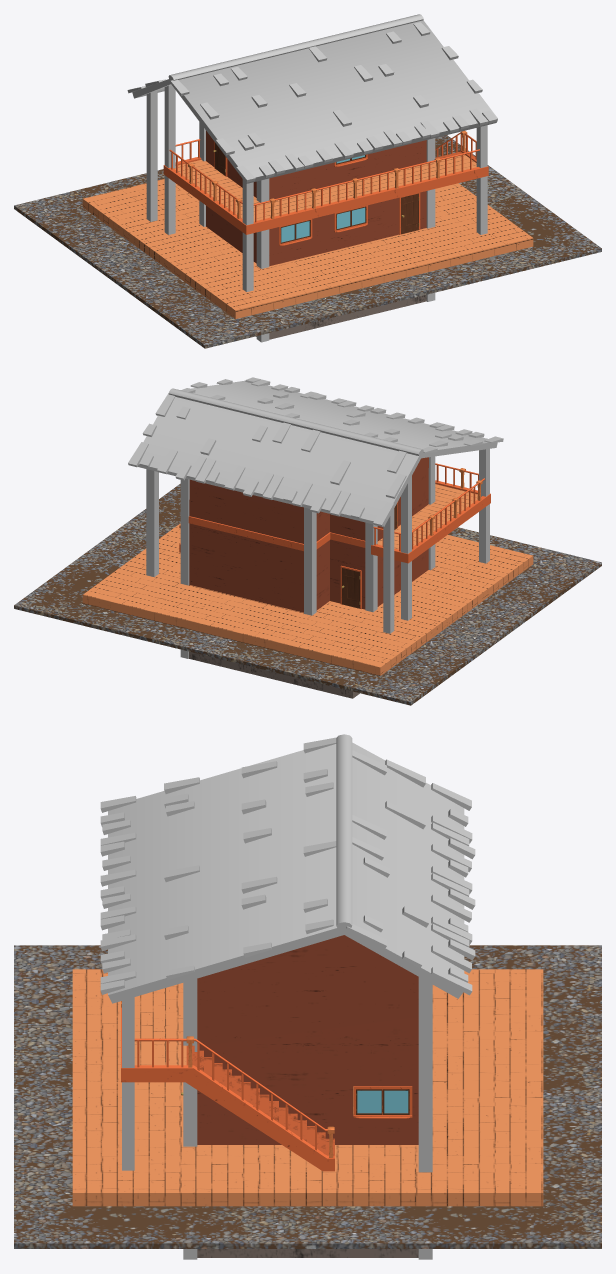
Rendered from House.fbx.
The picture shows the model from 3 angles, top to bottom: view 1: azimuth 30°, elevation 25°; view 2: azimuth 150°, elevation 25°; view 3: azimuth 270°, elevation 25°; orthographic projection. The views are drawn at different scales.
Parts seen in each view (by area): view 1: roof, Stairs, Ground, House, posts.004, Railing, Door.003; view 2: roof, Stairs, Ground, House, posts.004, Railing, Door.005; view 3: roof, Stairs, Ground, House, posts.004, Railing, windows.016, windows.007.
Boxes of the visible parts, x1,y1,x2,y2 form: roof: (127,14,497,183); Stairs: (82,151,533,319); Ground: (14,135,601,348); House: (206,131,426,339); posts.004: (146,85,487,342); Railing: (163,130,488,234); Door.003: (401,193,419,234); roof: (128,377,503,526); Stairs: (82,484,533,675); Ground: (14,483,601,705); House: (188,457,428,698); posts.004: (146,449,489,658); Railing: (179,463,490,563); Door.005: (341,568,360,608); roof: (100,734,475,1003); Stairs: (72,969,543,1206); Ground: (14,945,601,1248); House: (197,935,418,1257); posts.004: (122,977,432,1259); Railing: (121,1001,334,1171); windows.016: (356,1089,382,1114); windows.007: (383,1089,409,1114).
Bounding box in the file's own units: 24 × 13.74 × 20.
